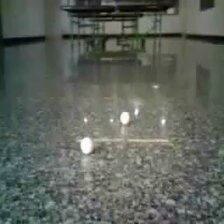w: (80, 137, 94, 153), (120, 111, 130, 124)
